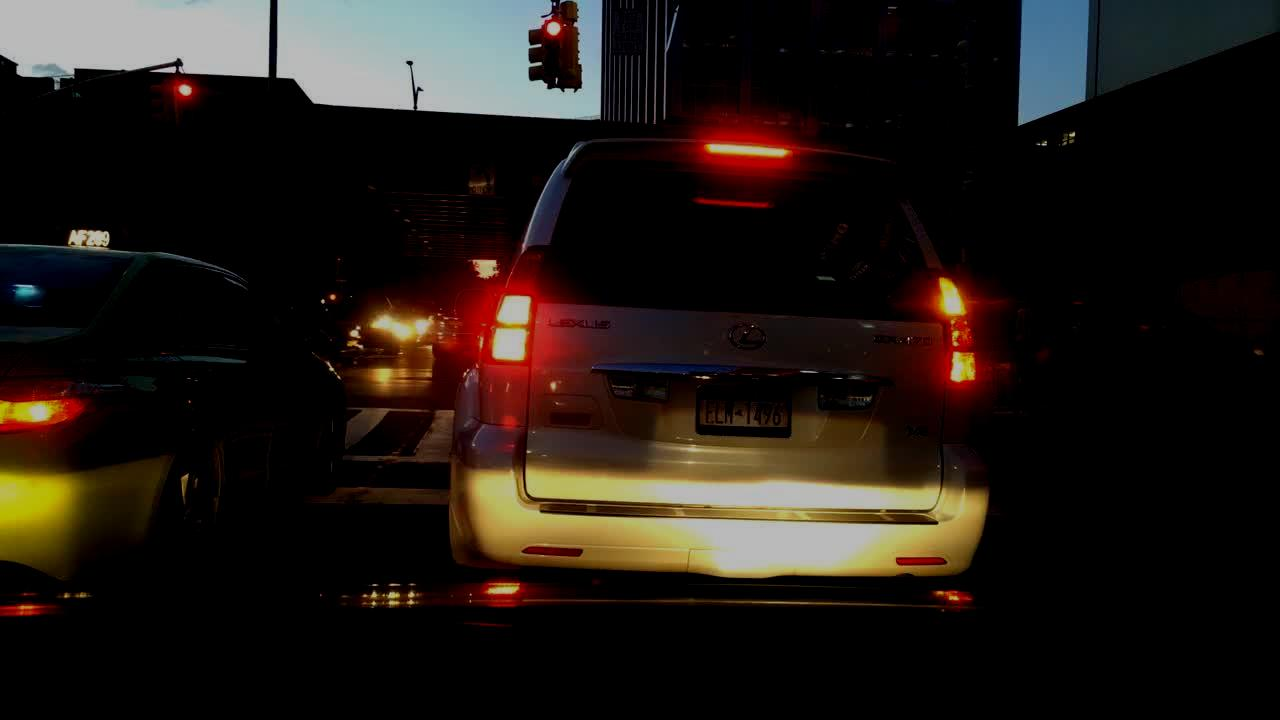lexus: (720, 316, 777, 354)
